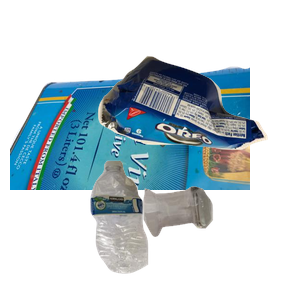glass: (141, 184, 300, 300)
metal: (10, 64, 250, 244)
plastic: (88, 158, 229, 300)
trash: (95, 53, 300, 195)
